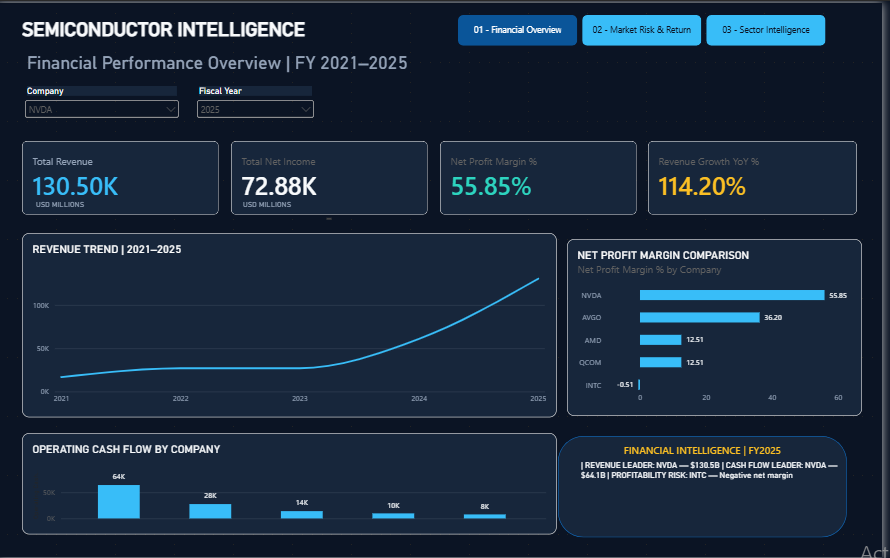

What the dashboard file says about the page in this screenshot:
{"tool":"powerbi","page":{"name":"01 - Financial Overview","canvas":[1440,900],"ordinal":0},"visuals":[{"type":"textbox","title":"SEMICONDUCTOR INTELLIGENCE","box":[40,24,900,48],"z":0},{"type":"textbox","title":"Financial Performance Overview  |  FY 2021–2025","box":[48,80,900,48],"z":1000},{"type":"slicer","fields":{"Values":["public companies.ticker"]},"box":[40,135,260,65],"z":2000},{"type":"slicer","fields":{"Values":["DimYear.fiscal_year"]},"box":[320,135,200,65],"z":3000},{"type":"cardVisual","fields":{"Data":["_Measures.Total Revenue"]},"box":[40,225,320,120],"z":4000},{"type":"cardVisual","fields":{"Data":["_Measures.Total Net Income"]},"box":[380,225,320,120],"z":5000},{"type":"cardVisual","fields":{"Data":["_Measures.Net Profit Margin %"]},"box":[720,225,320,120],"z":6000},{"type":"cardVisual","fields":{"Data":["_Measures.Revenue Growth YoY %"]},"box":[1060,225,340,120],"z":7000},{"type":"textbox","title":"USD MILLIONS","box":[64,320,144,16],"z":8000},{"type":"textbox","title":"USD MILLIONS","box":[400,320,144,32],"z":9000},{"type":"lineChart","title":"REVENUE TREND | 2021–2025","fields":{"Category":["public vw_dashboard_financials.fiscal_year"],"Y":["_Measures.Total Revenue"]},"box":[40,375,870,300],"z":10000},{"type":"clusteredBarChart","title":"NET PROFIT MARGIN COMPARISON","fields":{"Category":["public companies.ticker"],"Y":["_Measures.Net Profit Margin %"]},"box":[928,384,480,288],"z":11000},{"type":"clusteredColumnChart","title":"OPERATING CASH FLOW BY COMPANY","fields":{"Category":["public companies.ticker"],"Y":["_Measures.Total Operating Cash Flow"]},"box":[40,700,870,165],"z":12000},{"type":"shape","box":[912,704,470,165],"z":13000},{"type":"textbox","title":"|  REVENUE LEADER: NVDA — $130.5B  |  CASH FLOW LEADER: NVDA — $64.1B  |  PROFITABILITY RISK: INTC — Negative net margin","box":[950,746,430,110],"z":14000},{"type":"pageNavigator","box":[750,20,600,50],"z":15000}]}

Visuals, with their boxes in screenshot pixels (x1, y1, x2, y2), scaled from the page's 1440x900 canvas onto the 890x558 screenshot:
"SEMICONDUCTOR INTELLIGENCE" textbox: 25,15,581,45
"Financial Performance Overview  |  FY 2021–2025" textbox: 30,50,586,79
slicer - public companies.ticker: 25,84,185,124
slicer - DimYear.fiscal_year: 198,84,321,124
cardVisual - _Measures.Total Revenue: 25,140,222,214
cardVisual - _Measures.Total Net Income: 235,140,433,214
cardVisual - _Measures.Net Profit Margin %: 445,140,643,214
cardVisual - _Measures.Revenue Growth YoY %: 655,140,865,214
"USD MILLIONS" textbox: 40,198,129,208
"USD MILLIONS" textbox: 247,198,336,218
"REVENUE TREND | 2021–2025" lineChart: 25,232,562,418
"NET PROFIT MARGIN COMPARISON" clusteredBarChart: 574,238,870,417
"OPERATING CASH FLOW BY COMPANY" clusteredColumnChart: 25,434,562,536
shape: 564,436,854,539
"|  REVENUE LEADER: NVDA — $130.5B  |  CASH FLOW LEADER: NVDA — $64.1B  |  PROFITABILITY RISK: INTC — Negative net margin" textbox: 587,463,853,531
pageNavigator: 464,12,834,43
